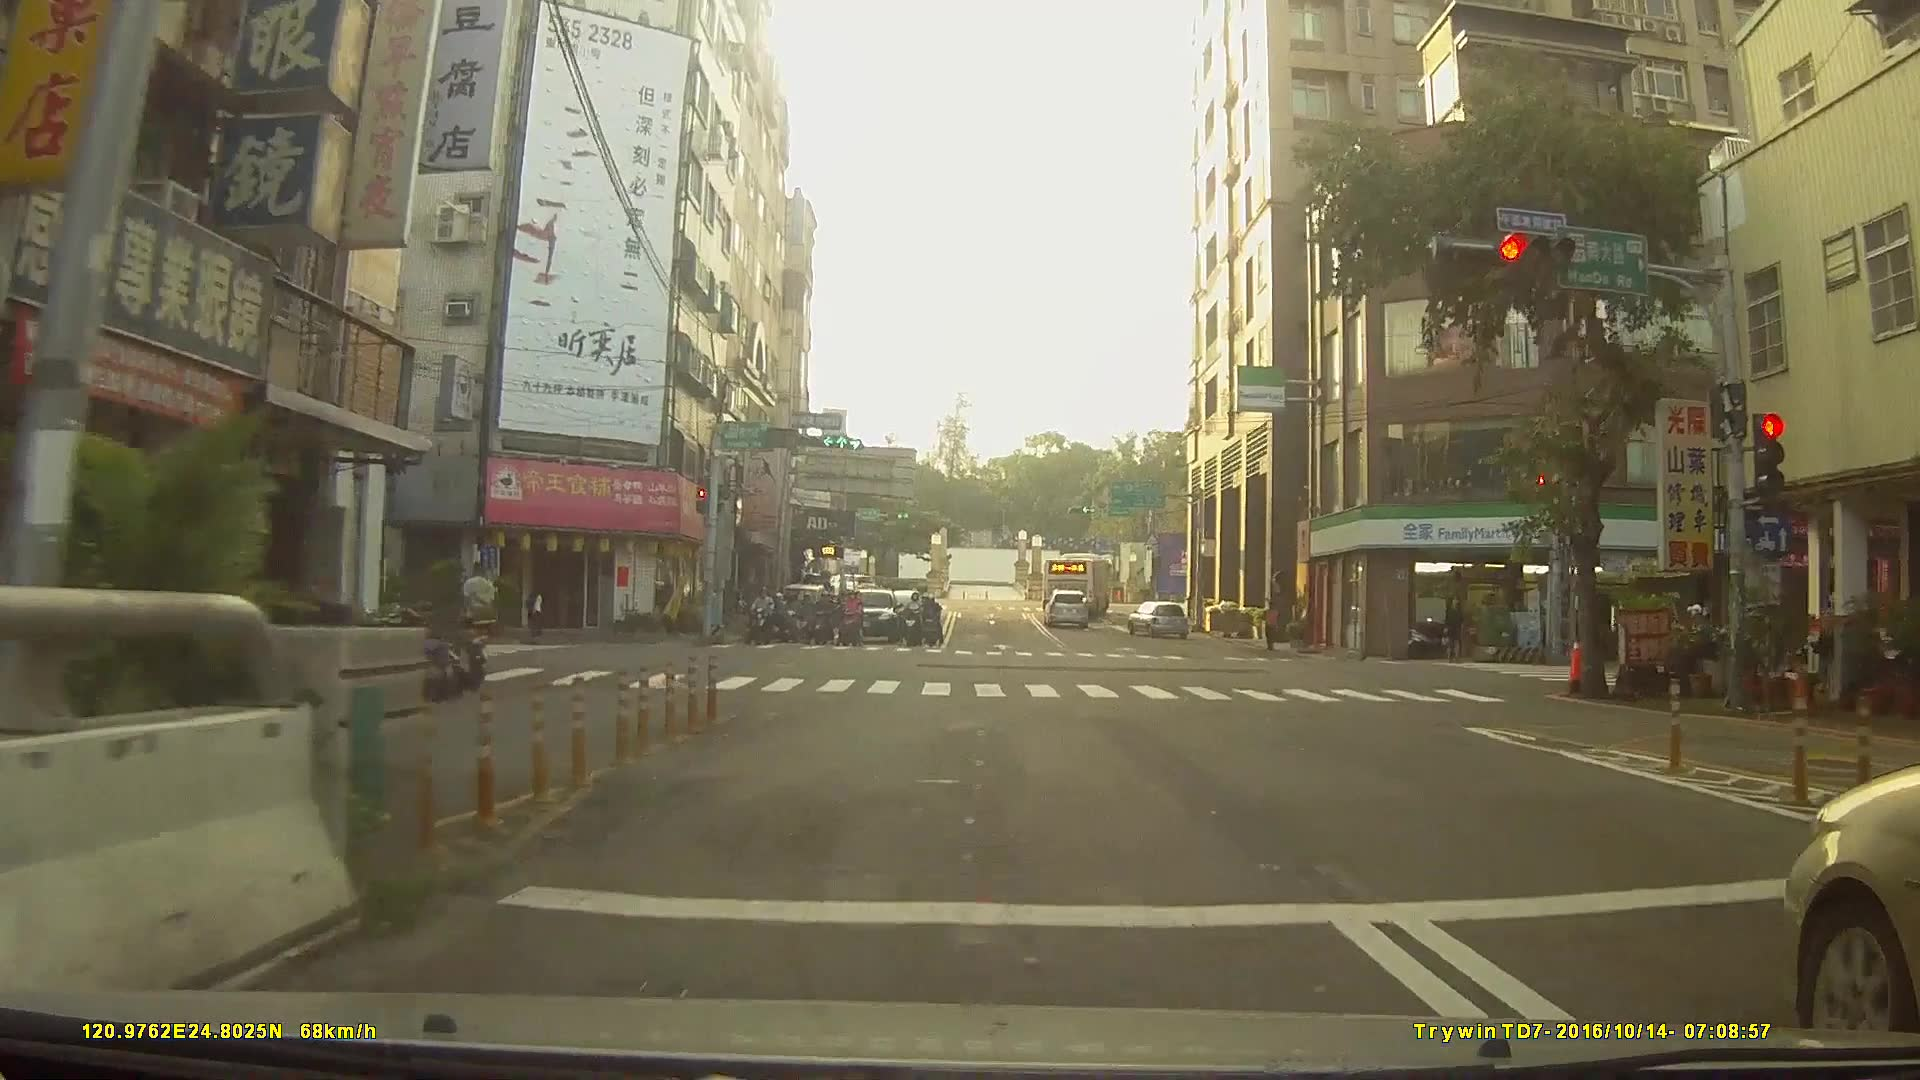pedestrian: (455, 561, 503, 666), (1441, 593, 1467, 663), (529, 584, 549, 646), (1262, 599, 1282, 653)
rider: (745, 586, 776, 649), (834, 590, 864, 651), (812, 588, 837, 647), (901, 589, 924, 647), (779, 590, 805, 644), (920, 601, 942, 655)
vehicle: (1040, 547, 1114, 615), (838, 585, 900, 646), (1124, 597, 1188, 638), (1041, 589, 1092, 627)
